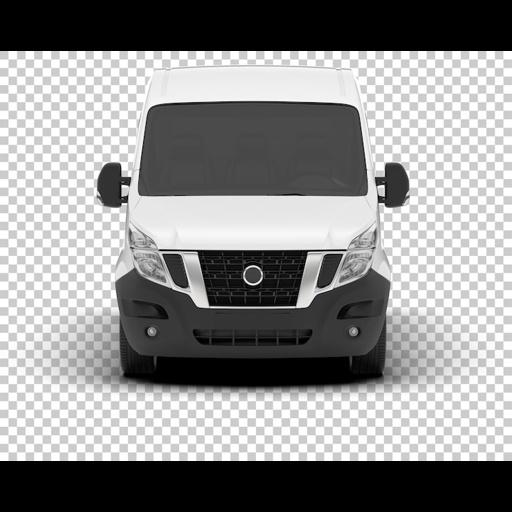van: (96, 66, 408, 374)
